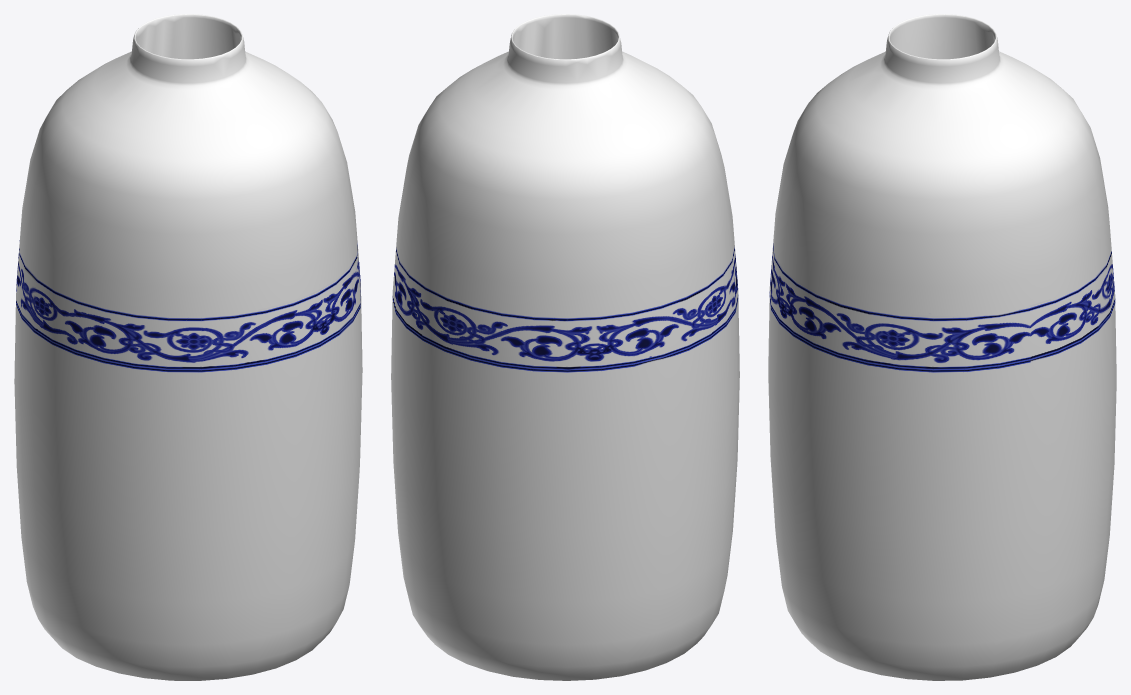
Rendered from Vase 1.FBX.
3 views of the same model, side by side, from view 1: azimuth 30°, elevation 25°; view 2: azimuth 150°, elevation 25°; view 3: azimuth 270°, elevation 25° (orthographic).
Parts seen in each view (by area): view 1: vase 1; view 2: vase 1; view 3: vase 1.
Boxes of the visible parts, <box> form: vase 1: <box>14,14,362,680</box>; vase 1: <box>391,14,739,680</box>; vase 1: <box>768,14,1116,680</box>.
Bounding box in the file's own units: 13.01 × 24.07 × 13.01.
Materials: 1 (1 with a texture image).
